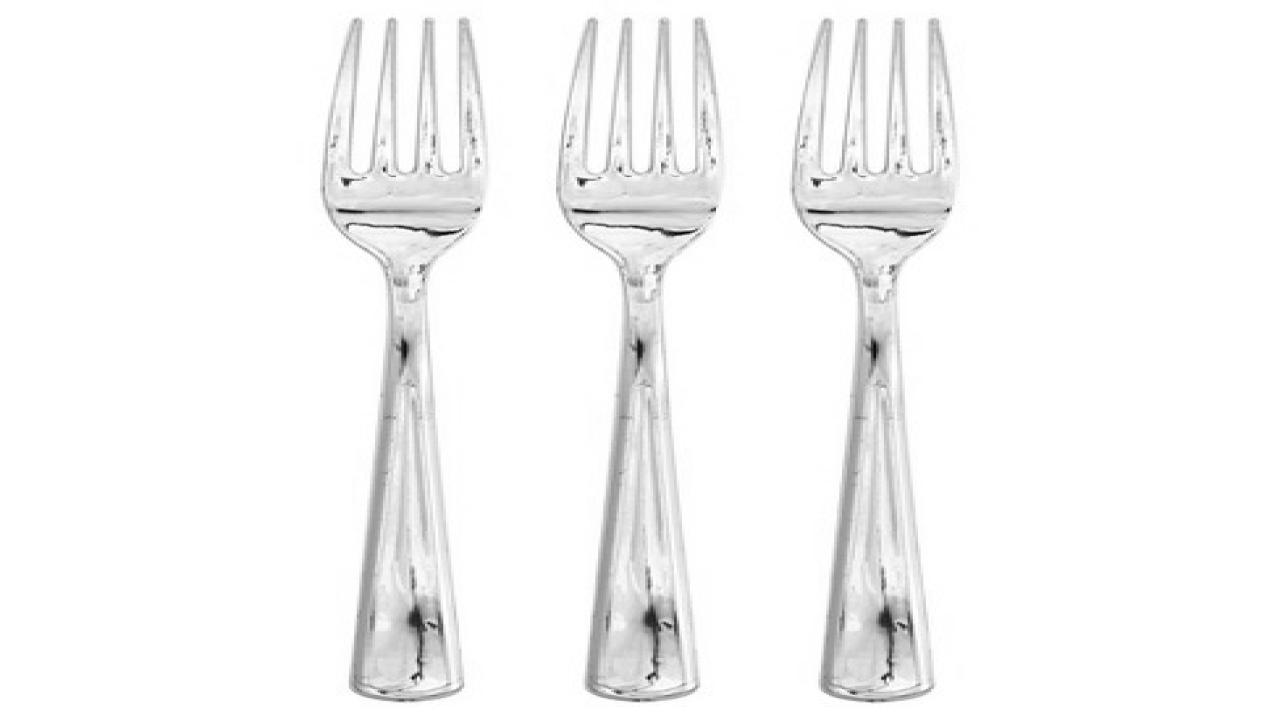fork: (317, 15, 488, 701), (553, 15, 724, 701), (789, 15, 958, 701)
